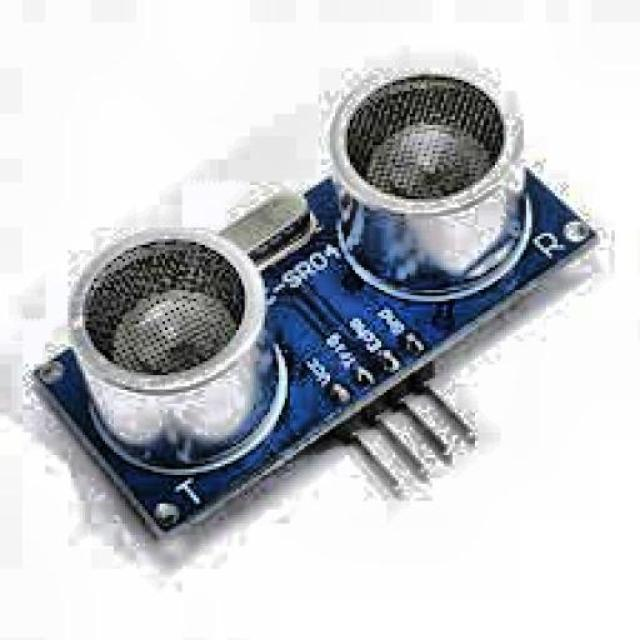Ultrasonic Sensor: (13, 29, 640, 583)
